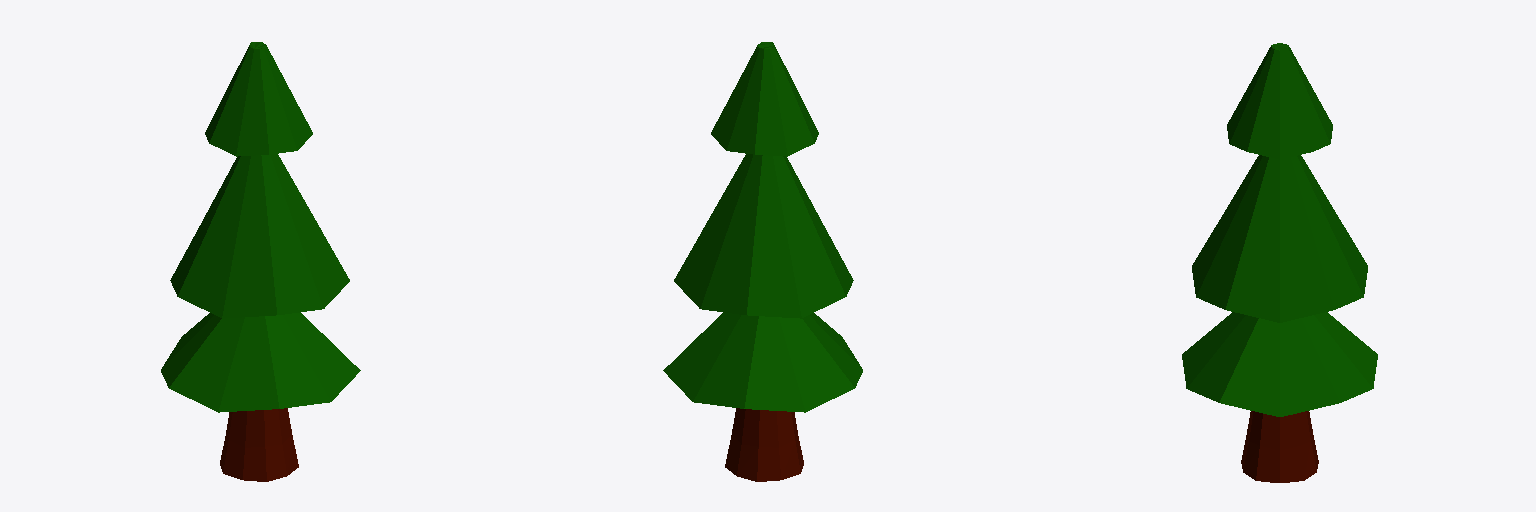
Rendered from LowPolyTree.obj.
The picture shows the model from 3 angles: view 1: azimuth 30°, elevation 25°; view 2: azimuth 150°, elevation 25°; view 3: azimuth 270°, elevation 25°; orthographic projection.
Visible parts, largest first — view 1: Icosphere; view 2: Icosphere; view 3: Icosphere.
Boxes of the visible parts, x1=… form: Icosphere: x1=161, y1=42, x2=360, y2=481; Icosphere: x1=663, y1=42, x2=862, y2=481; Icosphere: x1=1182, y1=43, x2=1377, y2=482.
Size of the model in its own units: 0.8633 by 1.99 by 0.8416.